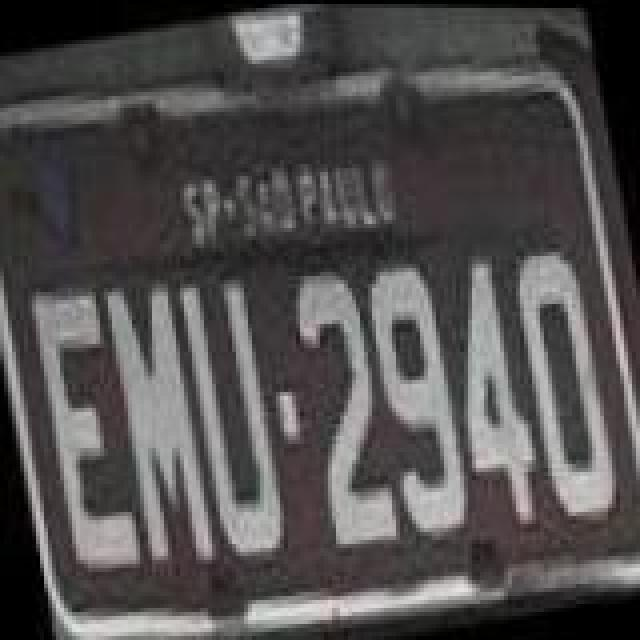2: (280, 256, 404, 560)
4: (432, 250, 548, 534)
9: (358, 256, 478, 540)
E: (26, 280, 154, 580)
M: (100, 274, 224, 574)
O: (506, 240, 626, 524)
U: (172, 270, 296, 570)
